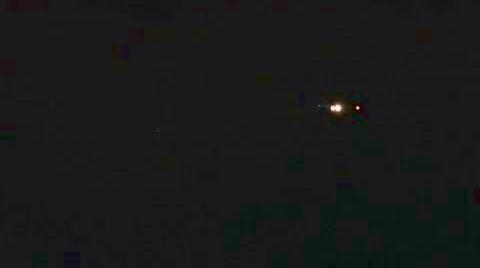Plane: (296, 76, 389, 133)
